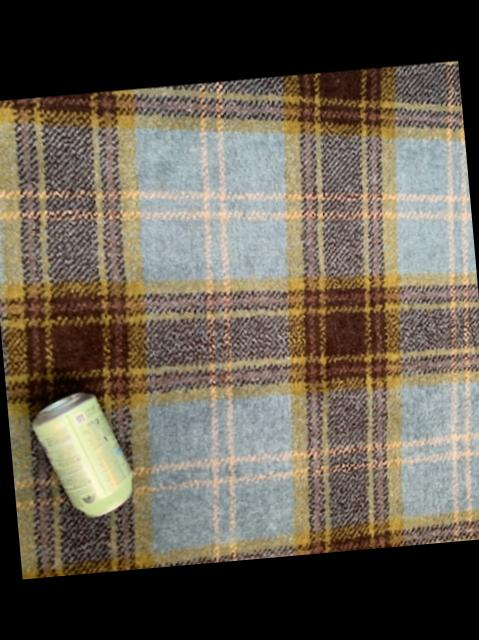metal: (31, 392, 131, 515)
